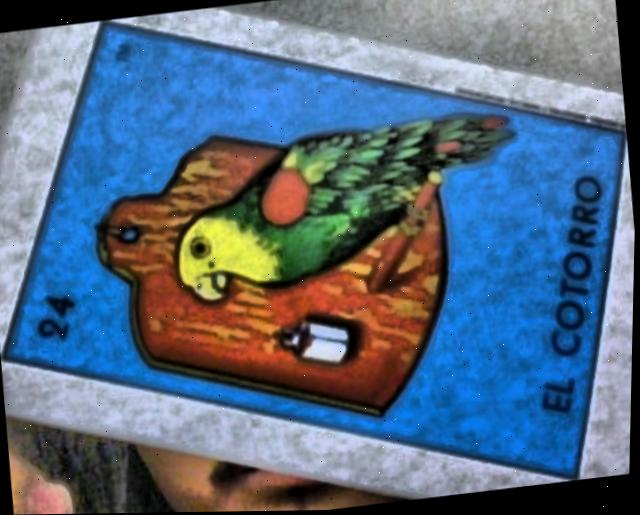El Cotorro: (4, 20, 625, 479)
